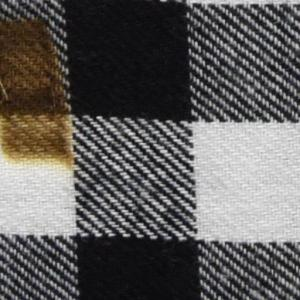Oil Stain: (1, 15, 82, 176)
